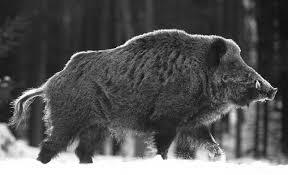wildboar: (5, 26, 280, 163)
